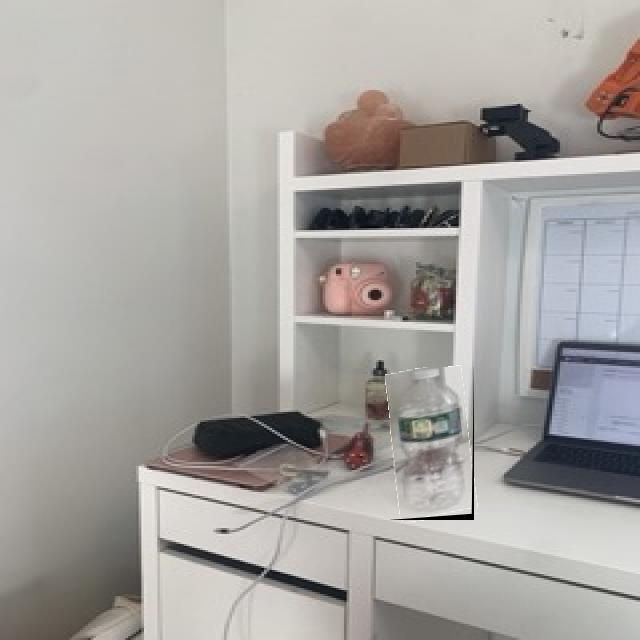water_bottle: (390, 367, 474, 520)
